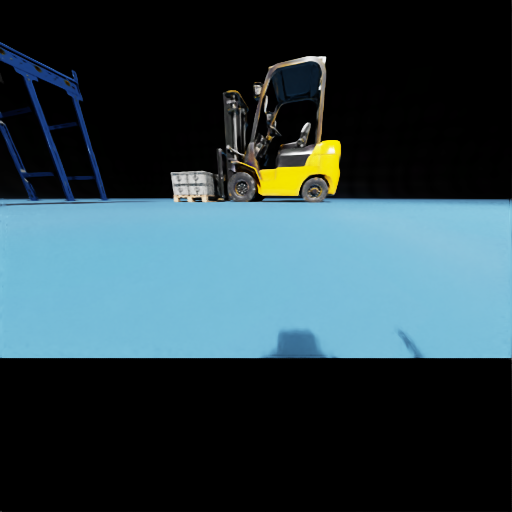transportation_area: (188, 184, 218, 194)
